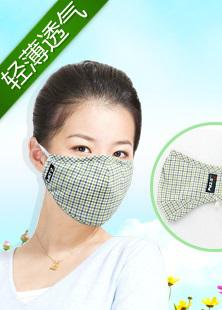OK: (48, 131, 135, 224)
